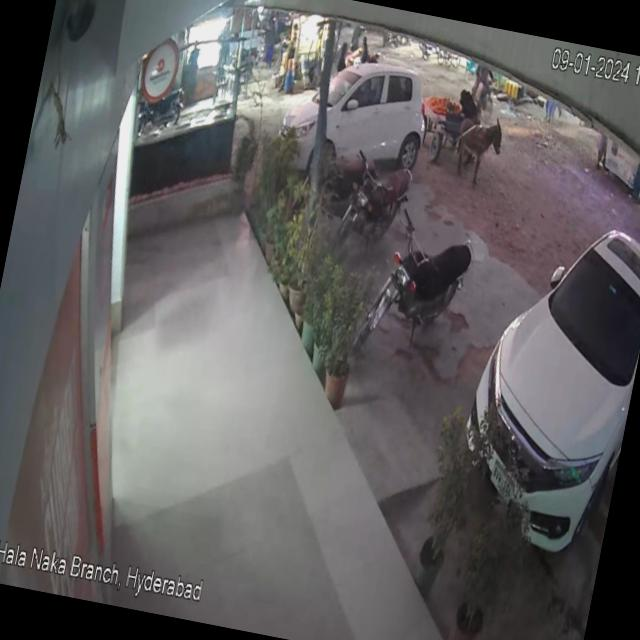Car: (441, 164, 640, 574), (255, 30, 442, 182)
Motorcycle: (350, 193, 491, 376), (339, 148, 422, 252)
